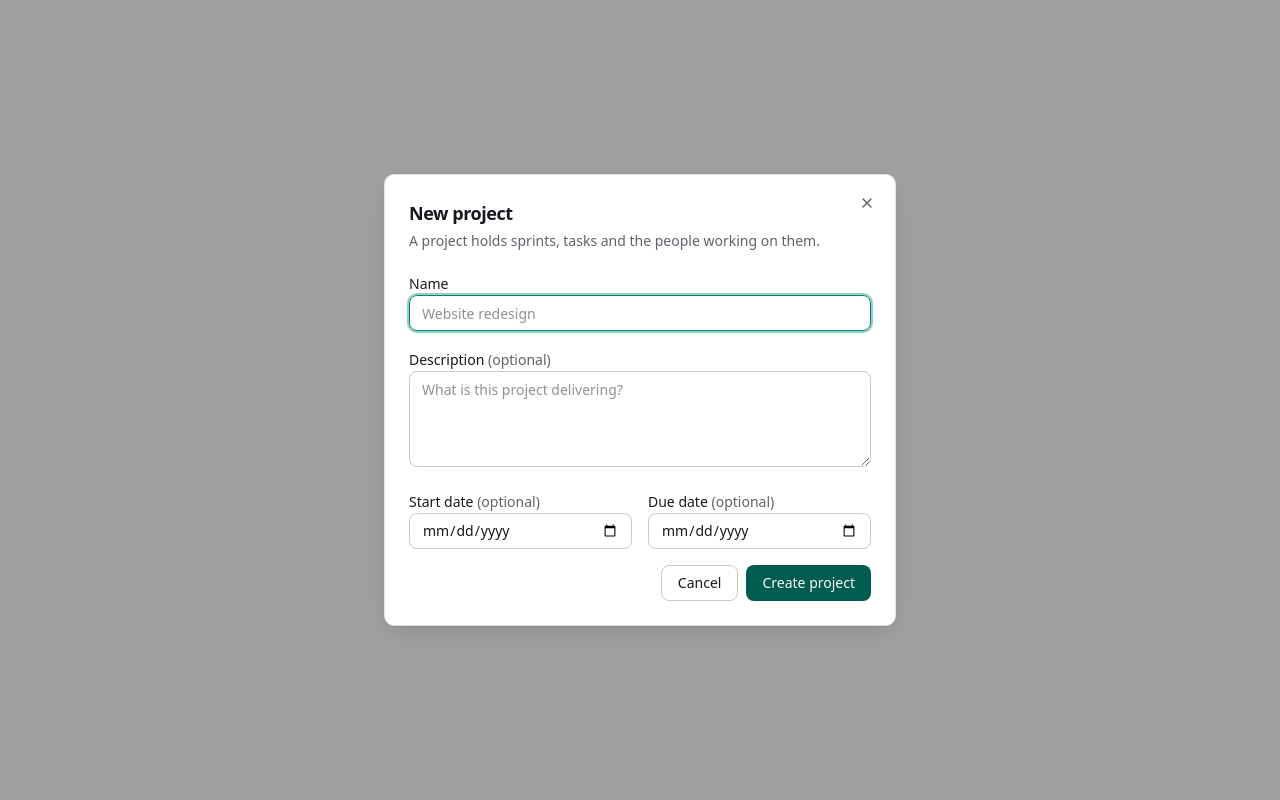
Test case: ProjectFormDialog › shows a duplicate name (the backend's 409 on the derived slug) on the Name field
The image size is (1280, 800).
Type "Website" into the field labelled "Name" at (640, 313), box x1=409 y1=295 x2=871 y2=331
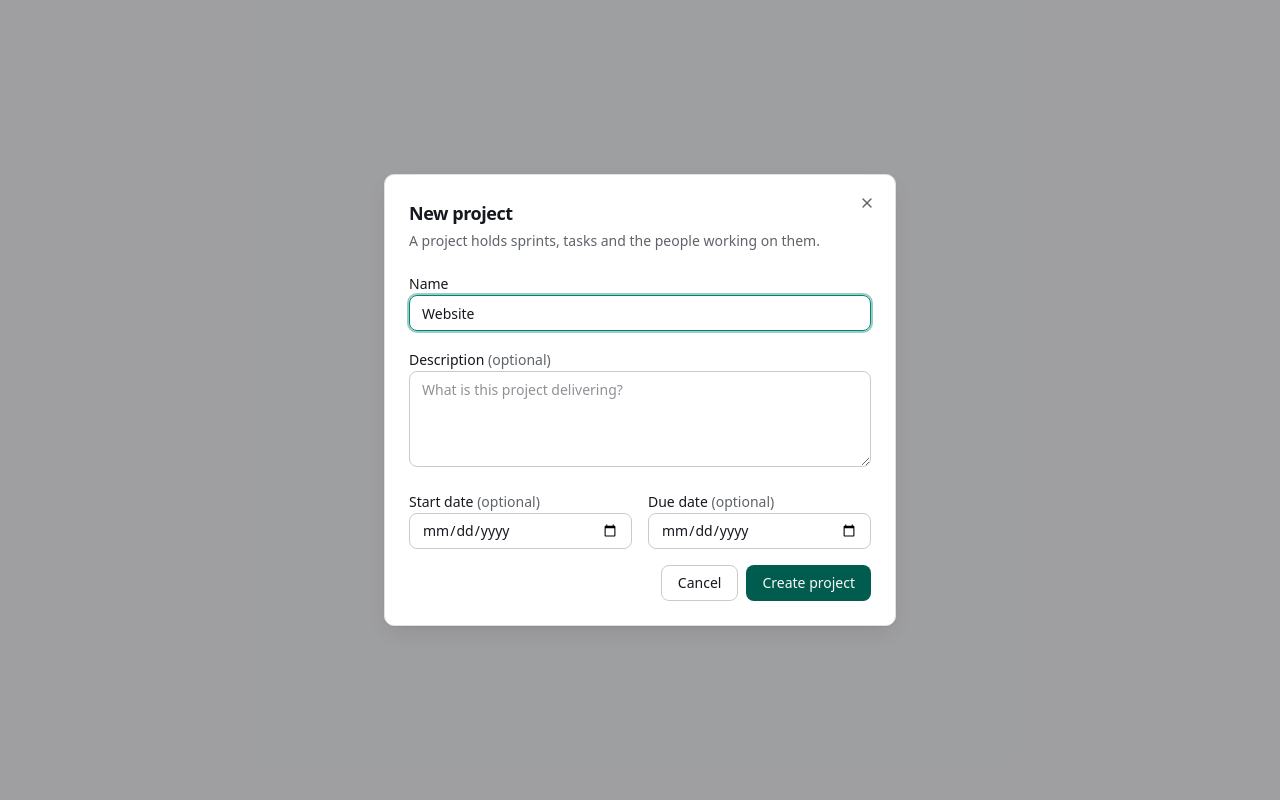
Click the button "Create project" at (809, 583), box x1=746 y1=565 x2=871 y2=601
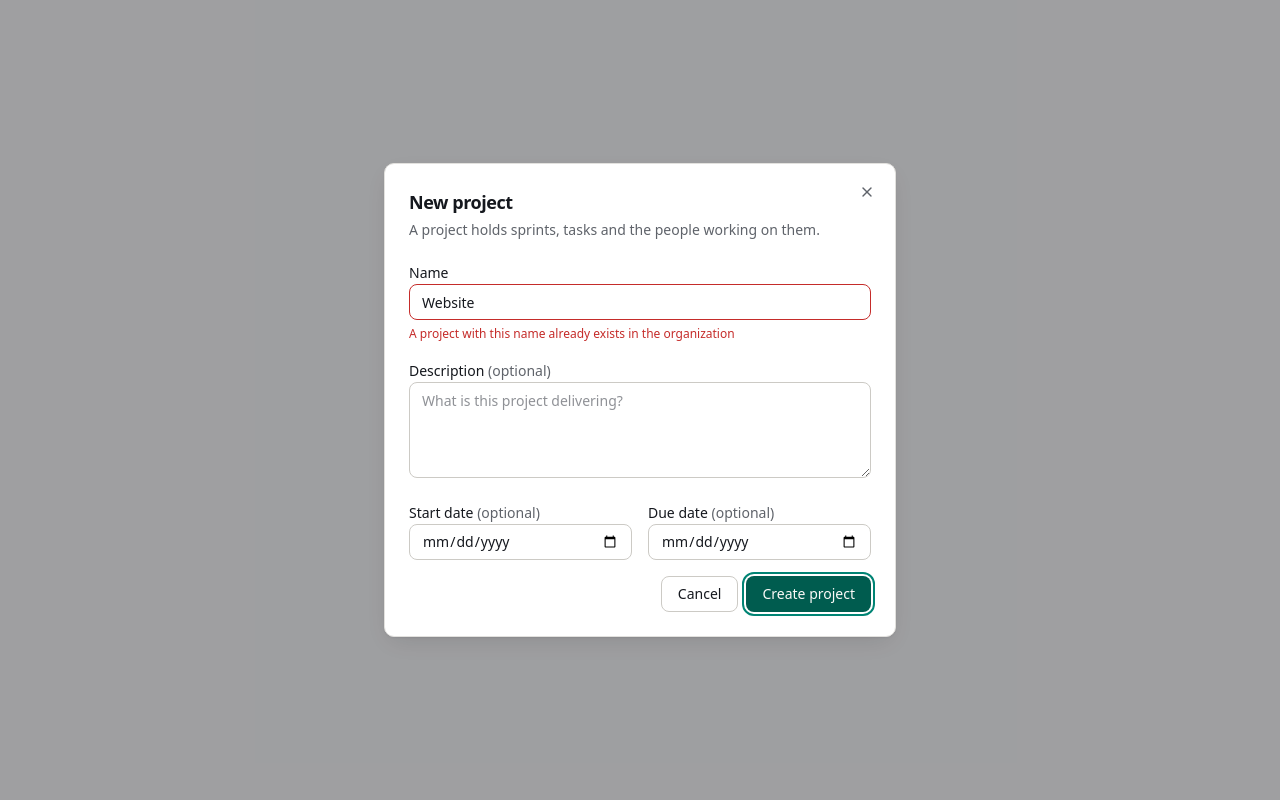
Check: the text "A project with this name already exists in the organization" is shown, box x1=409 y1=325 x2=735 y2=342
